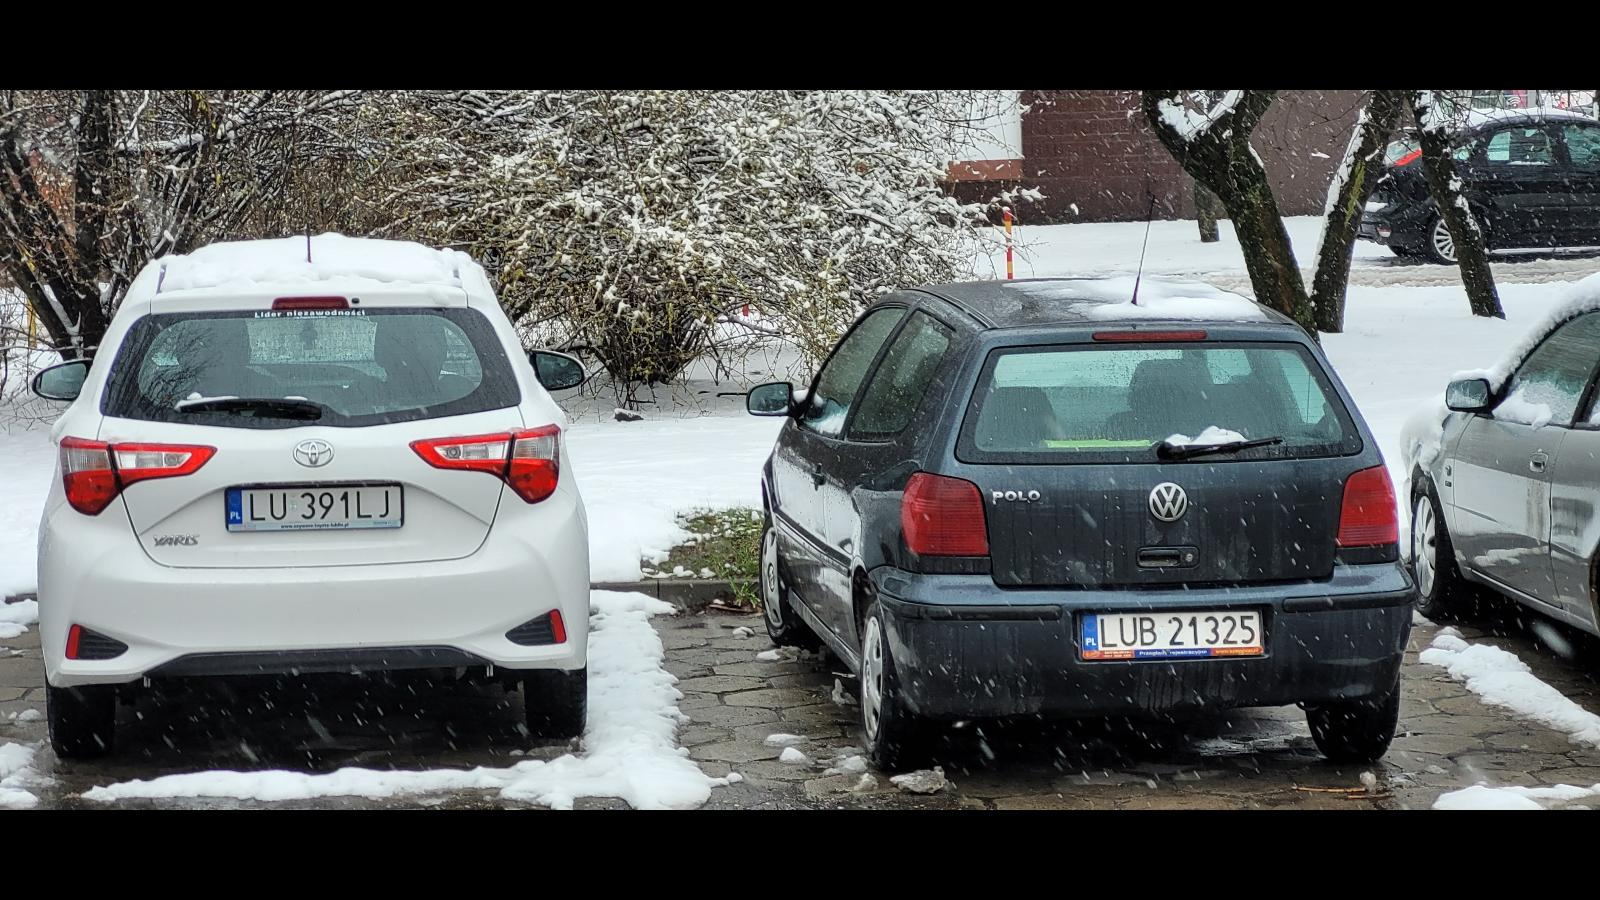plates: (1077, 610, 1265, 660), (224, 482, 404, 532)
